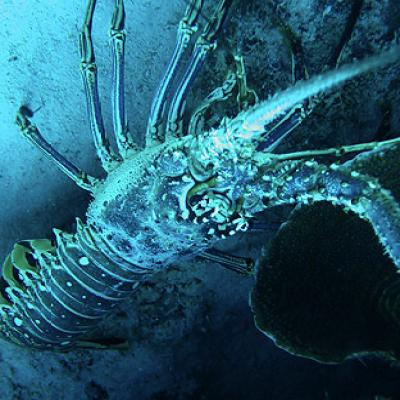lobster: (1, 69, 278, 346)
